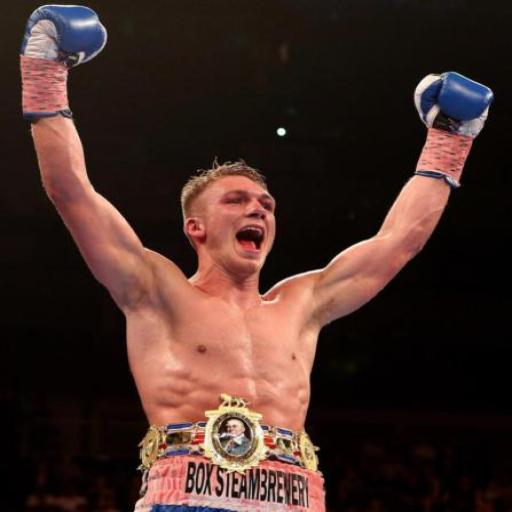boxing: (17, 1, 494, 511)
